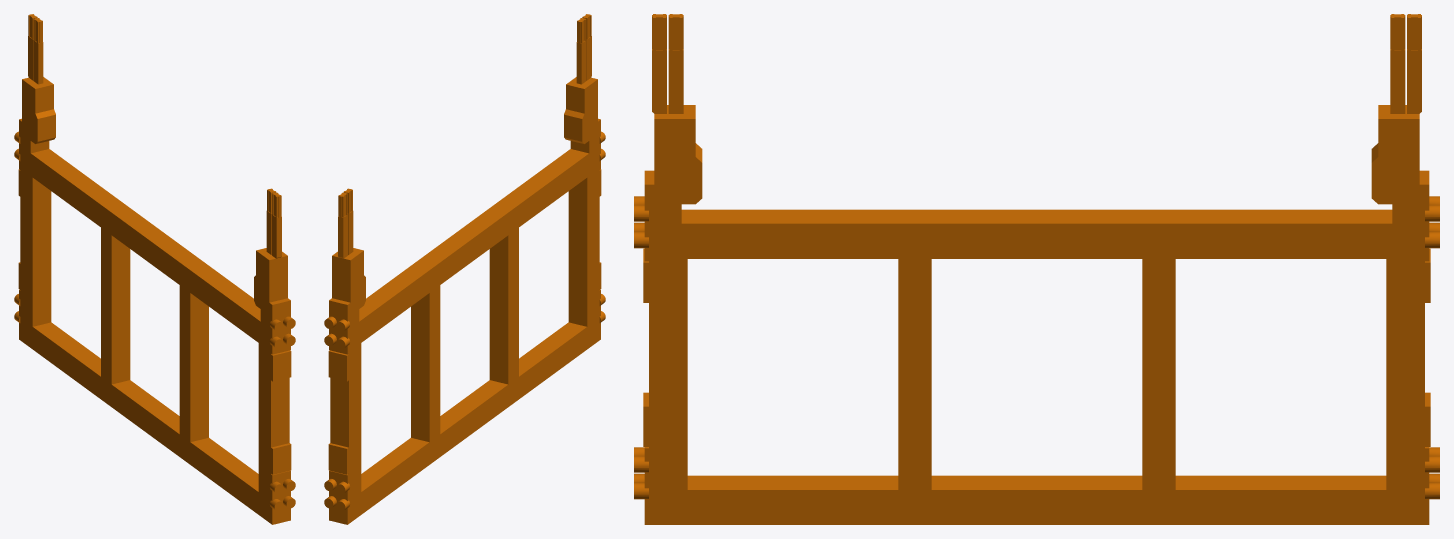
File: LIFT-CW.obj
3 views of the same model, side by side, from view 1: azimuth 30°, elevation 25°; view 2: azimuth 150°, elevation 25°; view 3: azimuth 270°, elevation 25° (orthographic). The views are drawn at different scales.
Parts seen in each view (by area): view 1: LIFT-CW; view 2: LIFT-CW; view 3: LIFT-CW.
Part boxes in pixels (x1=…): LIFT-CW: x1=14, y1=14, x2=295, y2=524; LIFT-CW: x1=324, y1=14, x2=605, y2=524; LIFT-CW: x1=634, y1=14, x2=1439, y2=524.
Size of the model in its own units: 137 by 2000 by 2909.
